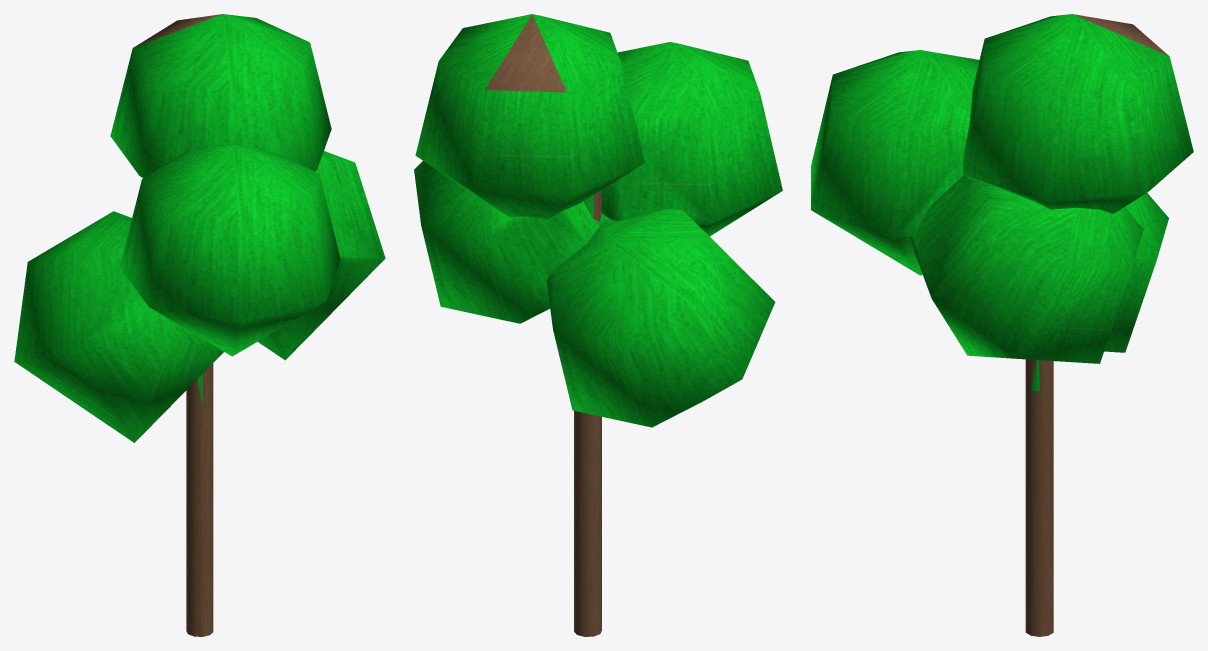
The model's file is tree.FBX.
3 renders of one model, left to right at view 1: azimuth 30°, elevation 25°; view 2: azimuth 150°, elevation 25°; view 3: azimuth 270°, elevation 25°, orthographic. The views are drawn at different scales.
Visible parts, largest first — view 1: Cylinder001; view 2: Cylinder001; view 3: Cylinder001.
Boxes of the visible parts, <box> form: Cylinder001: <box>14,14,385,636</box>; Cylinder001: <box>414,14,782,636</box>; Cylinder001: <box>811,14,1193,636</box>.
Size of the model in its own units: 22.39 by 38.94 by 21.21.
